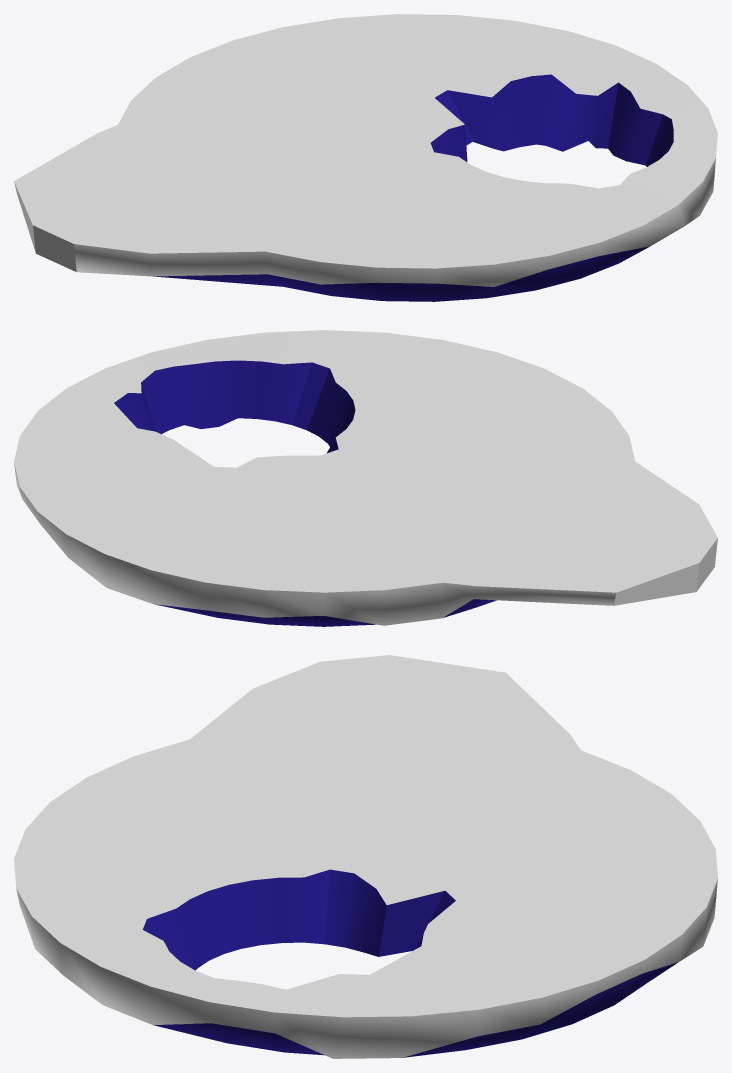
File: 第二层.fbx
The picture shows the model from 3 angles, top to bottom: view 1: azimuth 30°, elevation 25°; view 2: azimuth 150°, elevation 25°; view 3: azimuth 270°, elevation 25°; orthographic projection. The views are drawn at different scales.
Visible parts, largest first — view 1: 柱体.024; view 2: 柱体.024; view 3: 柱体.024.
Part boxes in pixels (x1=…): 柱体.024: x1=14, y1=14, x2=717, y2=301; 柱体.024: x1=14, y1=330, x2=717, y2=626; 柱体.024: x1=14, y1=655, x2=717, y2=1058.
Size of the model in its own units: 324 by 33.27 by 266.
